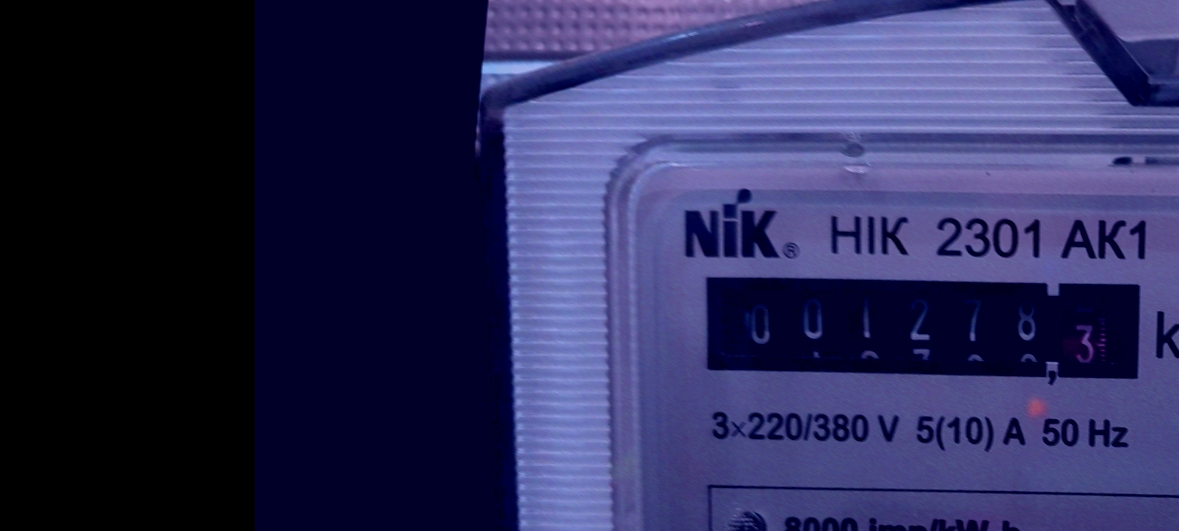0: (745, 296, 776, 346), (797, 292, 827, 341)
1: (855, 290, 877, 338)
2: (904, 293, 934, 342), (1071, 292, 1096, 313)
3: (1068, 319, 1099, 365)
7: (957, 293, 983, 342)
8: (1012, 294, 1040, 341)
screen: (683, 230, 1163, 420)
